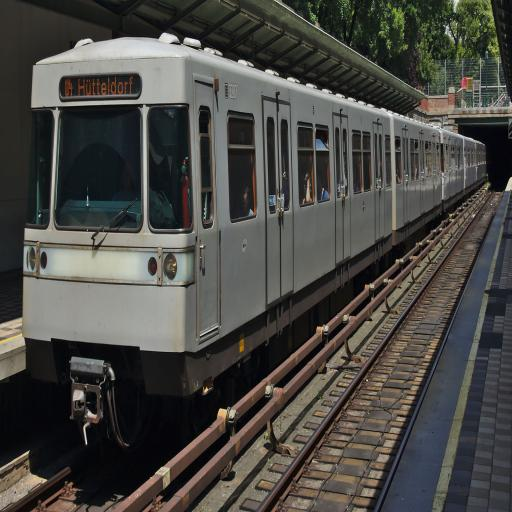Silberpfeil: (25, 34, 490, 412)
